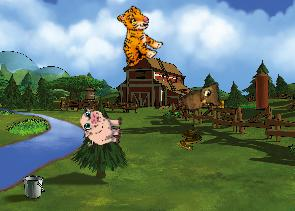owl: (174, 77, 228, 125)
pig: (79, 107, 123, 147)
tiger: (101, 2, 169, 72)
